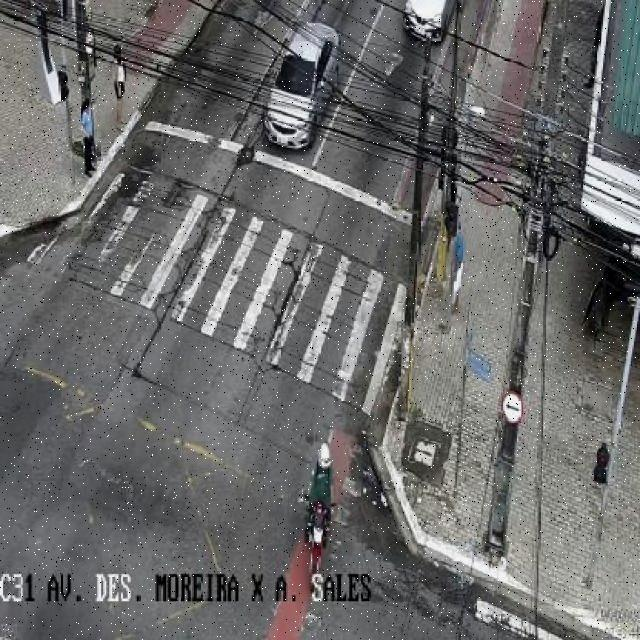Car: (264, 23, 340, 151), (401, 0, 460, 45)
Cycle: (300, 493, 336, 589)
